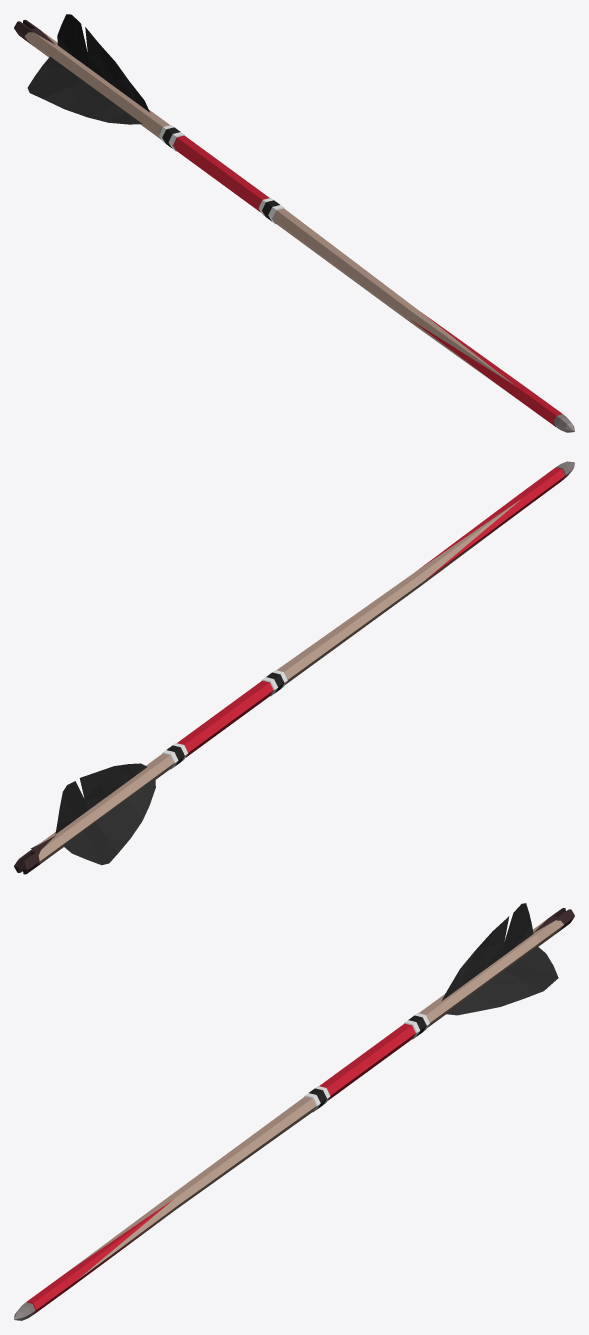
Rendered from thinTipColoredArrow.glb.
3 views of the same model, one above another, from view 1: azimuth 30°, elevation 25°; view 2: azimuth 150°, elevation 25°; view 3: azimuth 330°, elevation 25° (orthographic).
Visible parts, largest first — view 1: thinTipColoredArrow; view 2: thinTipColoredArrow; view 3: thinTipColoredArrow.
Part boxes in pixels (box(x1,y1,x2,y2)): thinTipColoredArrow: box(14, 14, 574, 432); thinTipColoredArrow: box(14, 461, 574, 874); thinTipColoredArrow: box(14, 903, 574, 1320).
Size of the model in its own units: 0.0805 by 0.0731 by 1.03.
